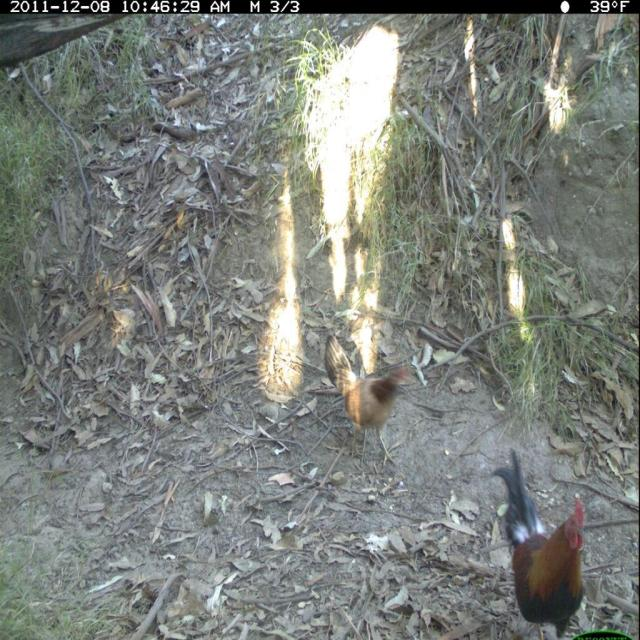bird: (489, 444, 598, 640), (313, 322, 417, 482)
